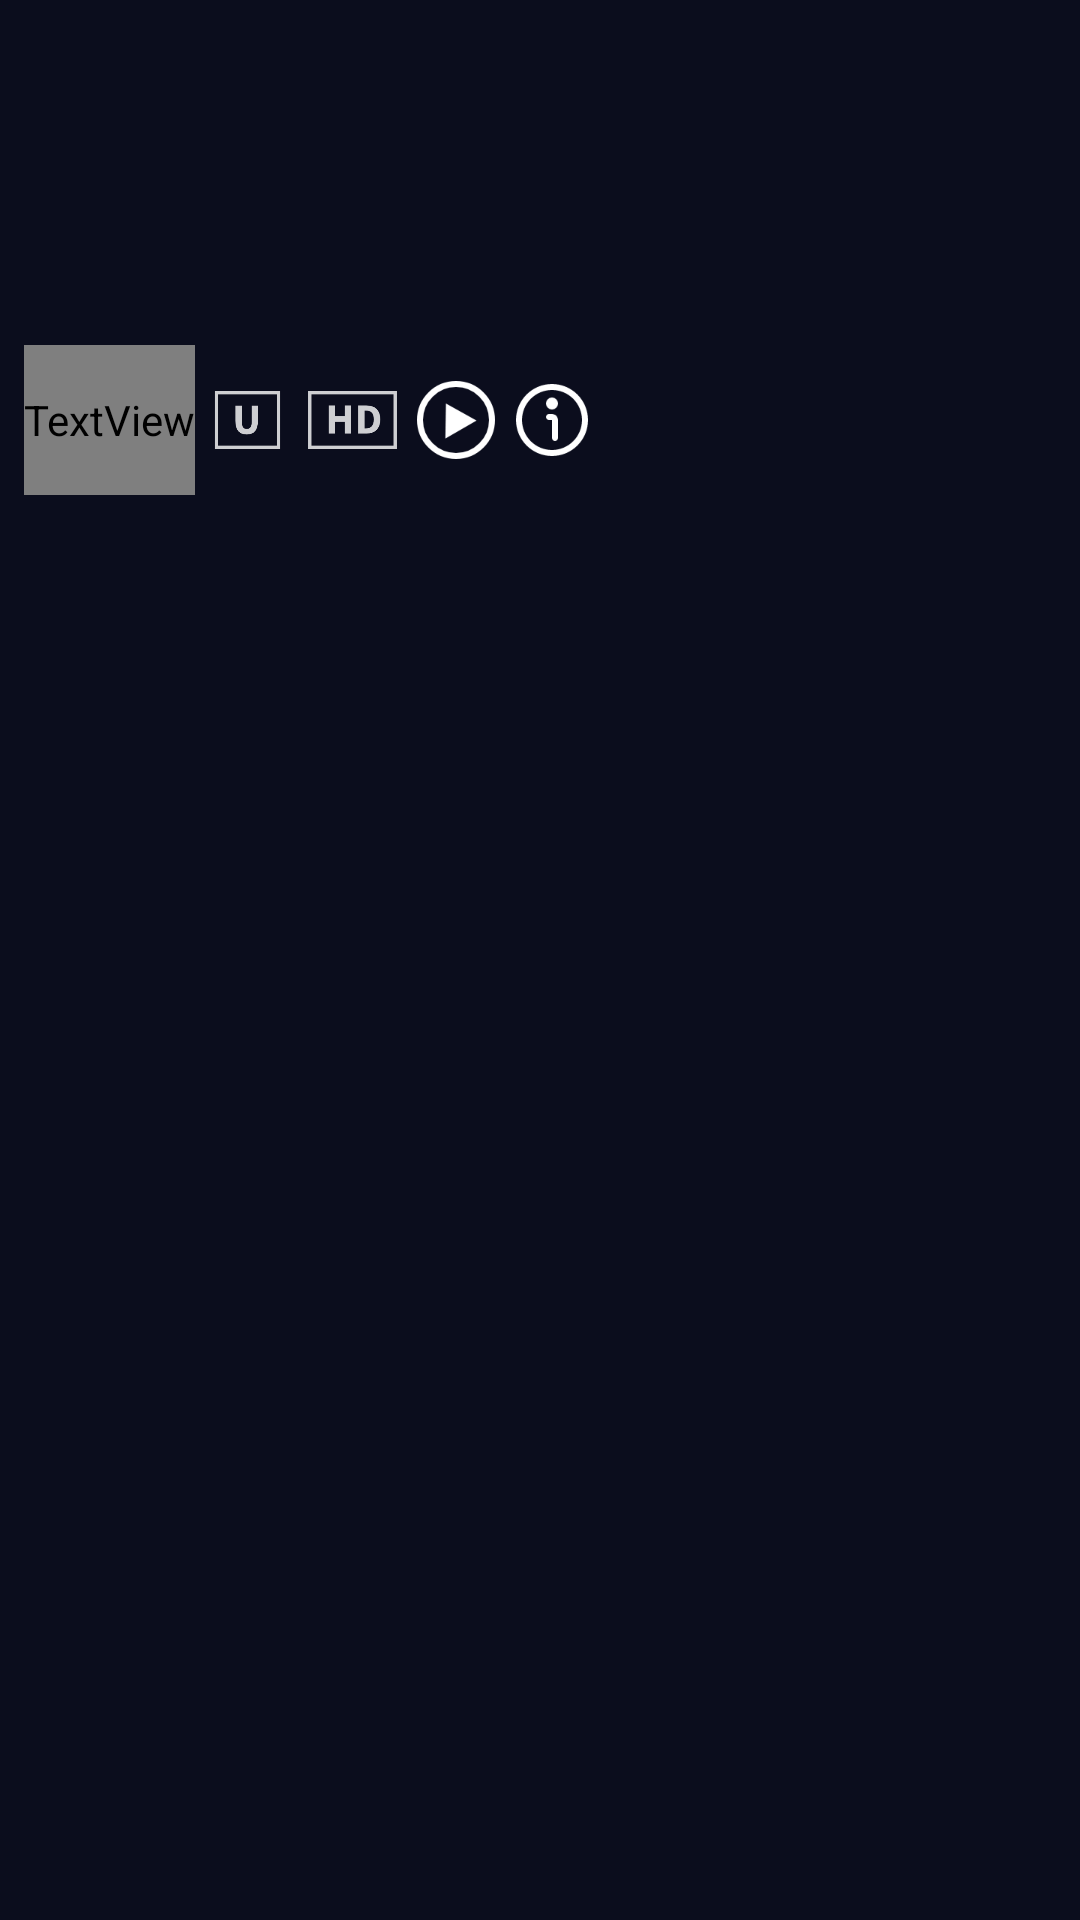

Icon bounding boxes for this 1080px x 1920px phone screenshot, format (x1, y1, x2, y2):
info: (516, 384, 588, 456)
play: (417, 381, 495, 459)
